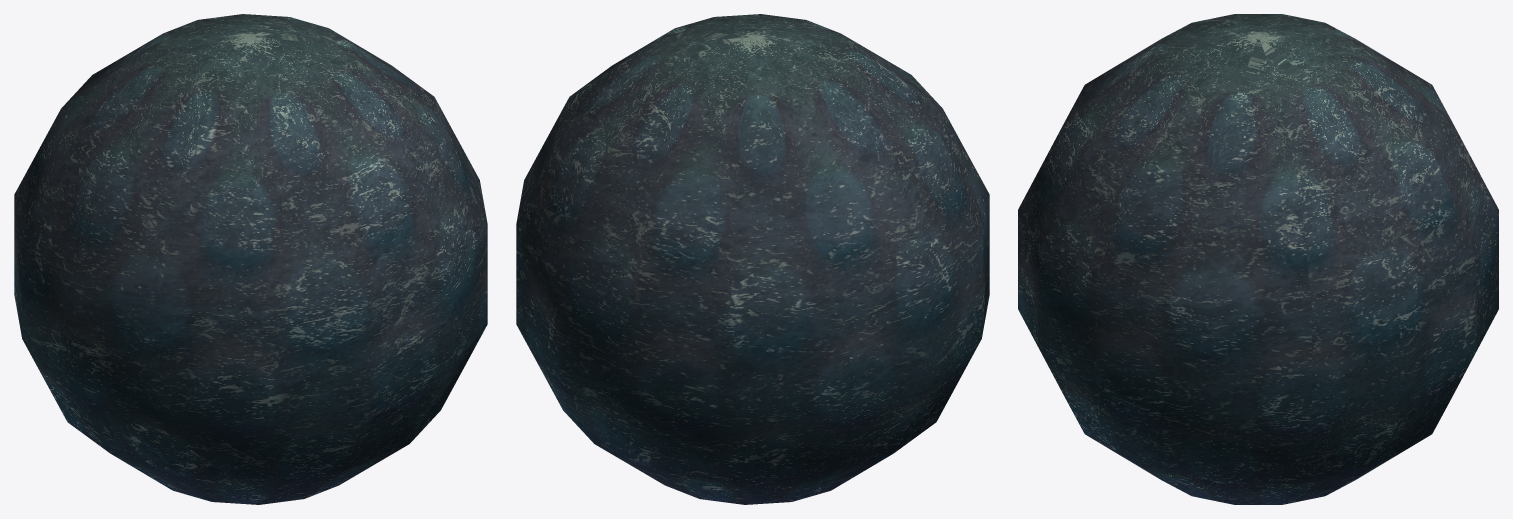
The model's file is Ball_6.FBX.
3 renders of one model, left to right at view 1: azimuth 30°, elevation 25°; view 2: azimuth 150°, elevation 25°; view 3: azimuth 270°, elevation 25°, orthographic.
Parts seen in each view (by area): view 1: Sphere023; view 2: Sphere023; view 3: Sphere023.
Part boxes in pixels (x1,y1,x2,y2): Sphere023: [14, 14, 487, 504]; Sphere023: [516, 14, 989, 504]; Sphere023: [1018, 14, 1498, 504].
Size of the model in its own units: 2.88 by 3.03 by 2.96.
